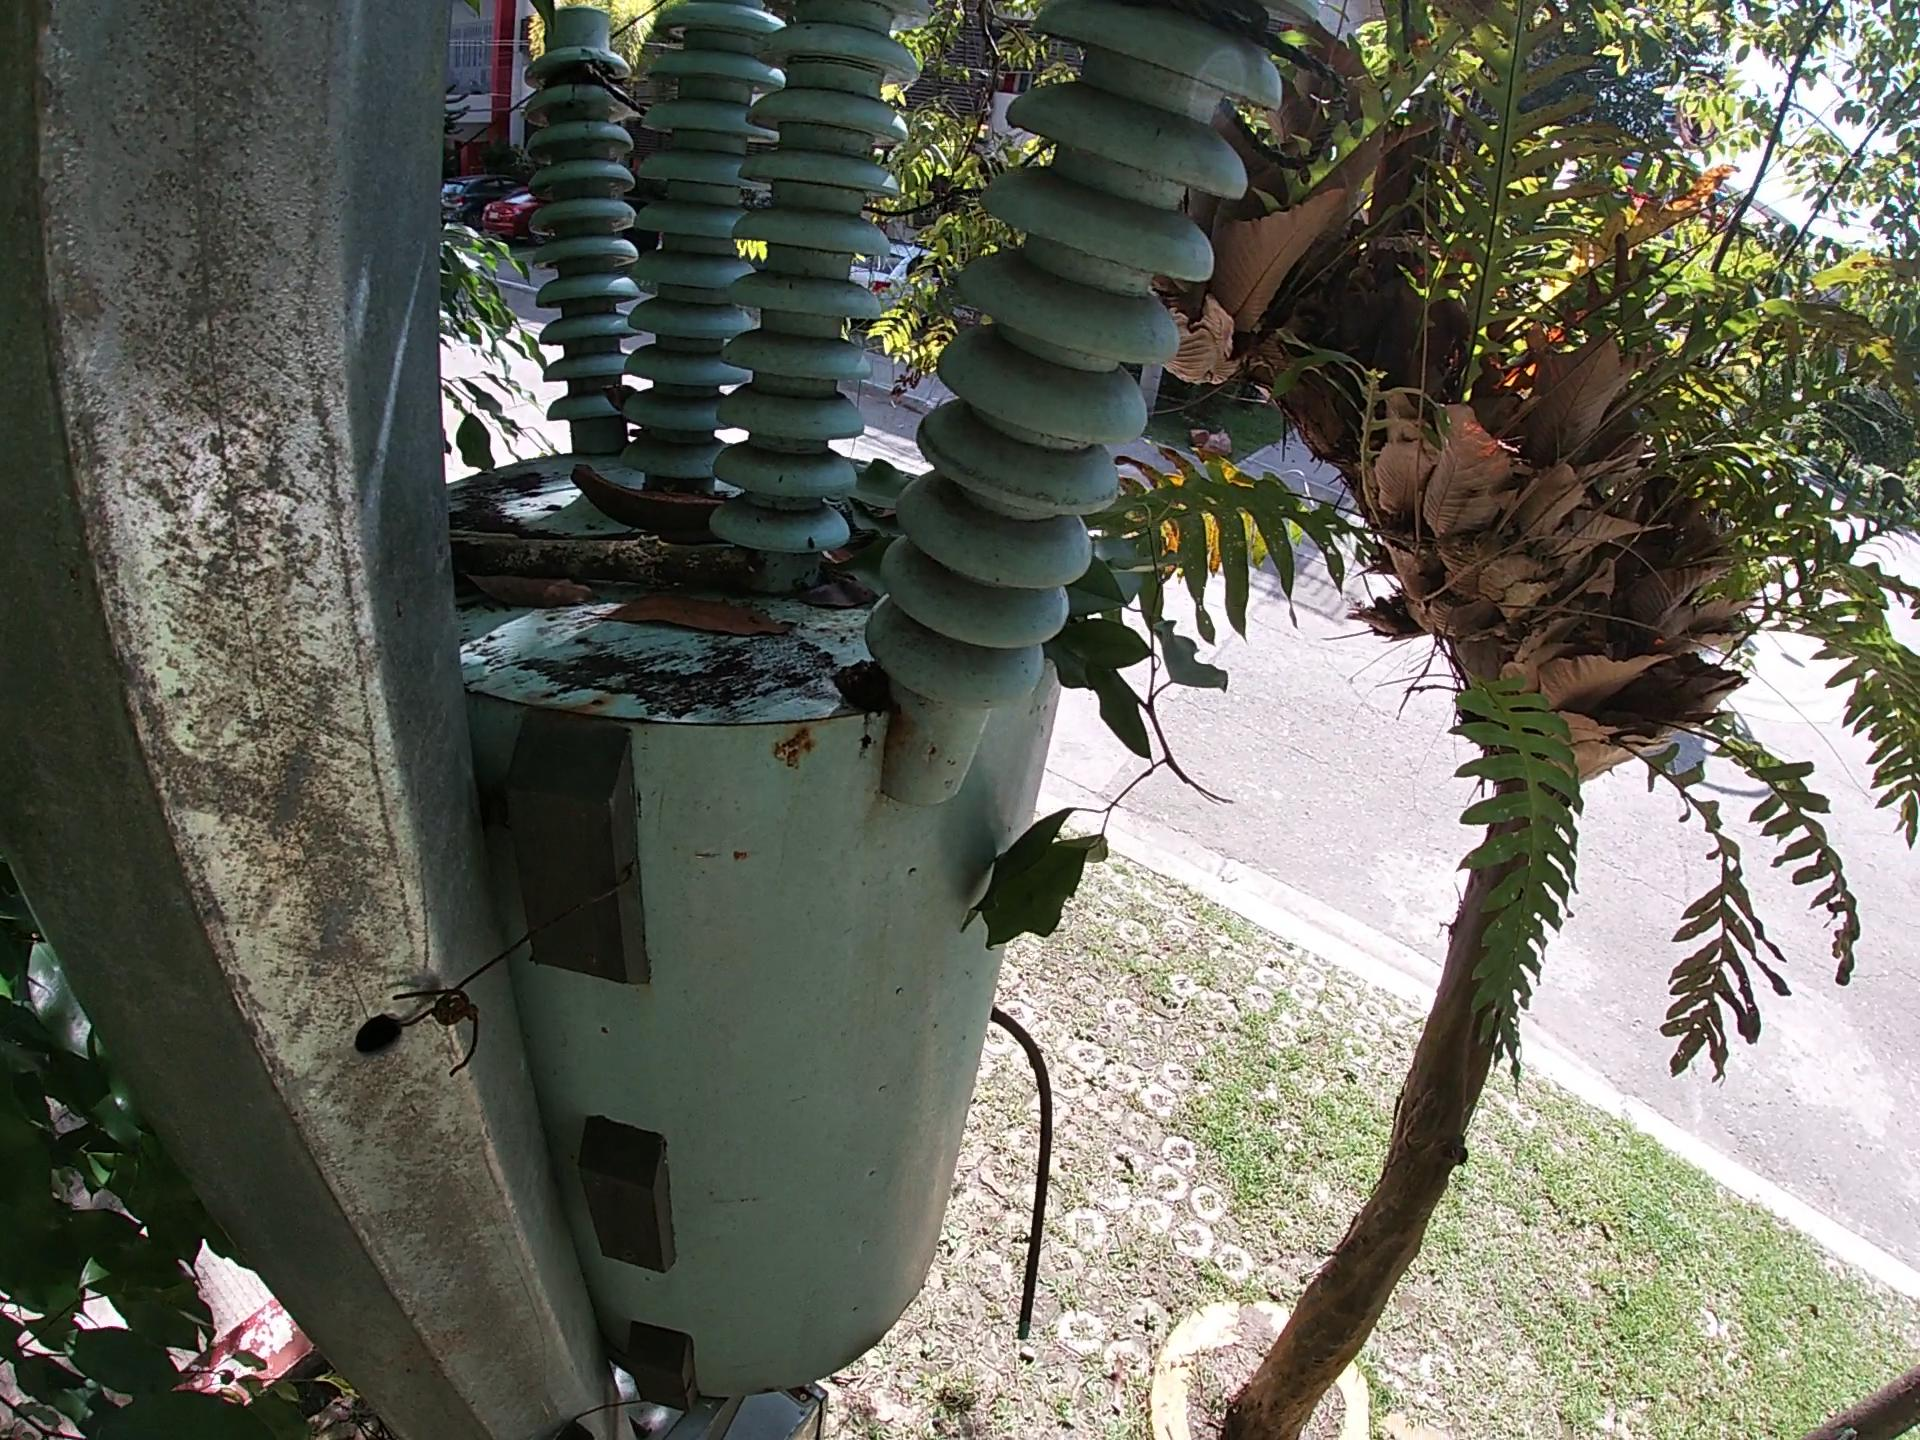branch with leaves: (945, 522, 1237, 956)
leaf: (816, 430, 915, 625), (603, 597, 795, 650), (451, 569, 600, 616)
mahogany fruit: (559, 461, 739, 532)
tree branch: (434, 525, 714, 573)
